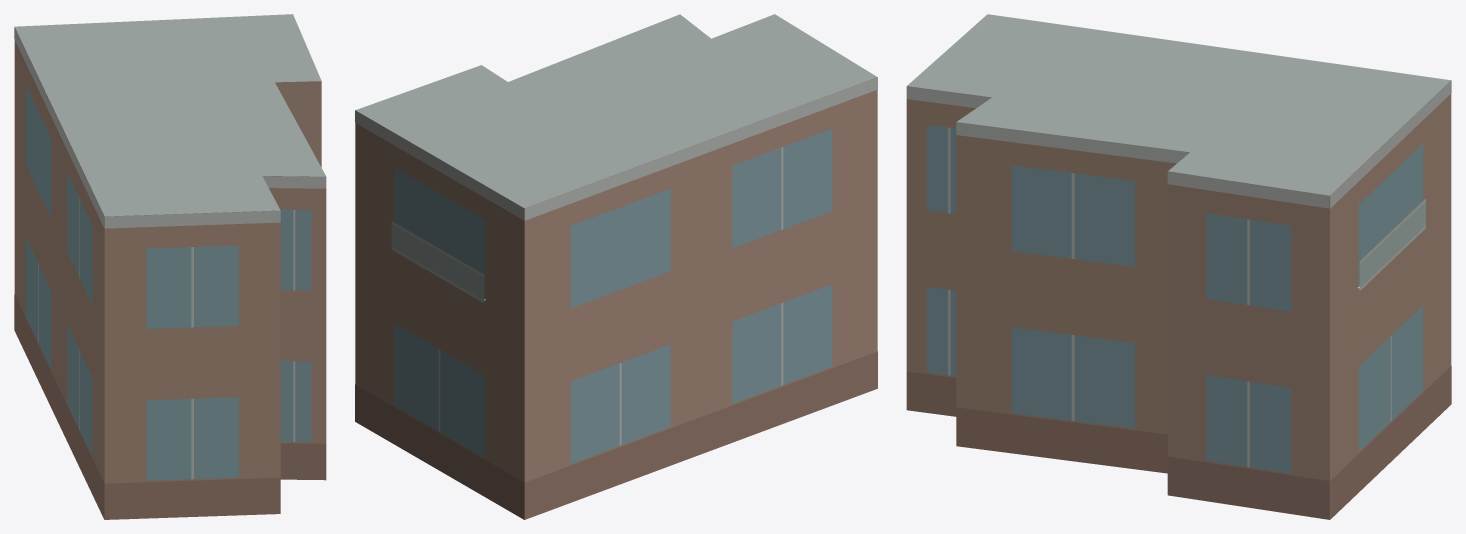
File: survey-upis-32818283.glb
3 views of the same model, side by side, from view 1: azimuth 30°, elevation 25°; view 2: azimuth 150°, elevation 25°; view 3: azimuth 270°, elevation 25° (orthographic). The views are drawn at different scales.
Visible parts, largest first — view 1: survey-upis-32818283.tmp; view 2: survey-upis-32818283.tmp; view 3: survey-upis-32818283.tmp.
Part boxes in pixels (left/top/right/bottom): survey-upis-32818283.tmp: left=14, top=14, right=326, bottom=519; survey-upis-32818283.tmp: left=355, top=14, right=877, bottom=519; survey-upis-32818283.tmp: left=906, top=14, right=1451, bottom=519.
Size of the model in its own units: 7.35 by 6.1 by 9.3.
